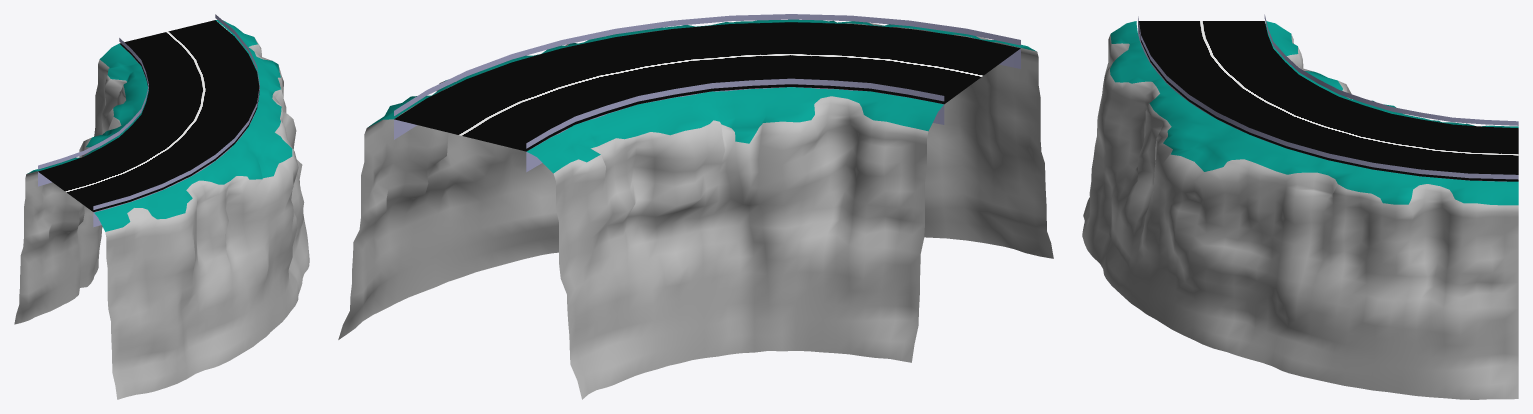
3 renders of one model, left to right at view 1: azimuth 30°, elevation 25°; view 2: azimuth 150°, elevation 25°; view 3: azimuth 270°, elevation 25°, orthographic. The views are drawn at different scales.
Parts seen in each view (by area): view 1: cliff_2, Mesh, cliff_1, guardRail_2, guardRail_1, pylon; view 2: cliff_1, cliff_2, Mesh, guardRail_2, guardRail_1, pylon; view 3: cliff_2, Mesh, guardRail_2, cliff_1, guardRail_1.
Part boxes in pixels (<box>): cliff_2: <box>94,20,309,399</box>; Mesh: <box>38,20,259,211</box>; cliff_1: <box>14,43,148,324</box>; guardRail_2: <box>93,14,259,209</box>; guardRail_1: <box>38,38,148,169</box>; pylon: <box>38,48,259,227</box>; cliff_1: <box>526,87,943,399</box>; cliff_2: <box>338,19,1053,339</box>; Mesh: <box>394,22,1020,151</box>; guardRail_2: <box>394,14,1020,115</box>; guardRail_1: <box>526,78,944,148</box>; pylon: <box>394,48,1020,172</box>; cliff_2: <box>1082,21,1518,399</box>; Mesh: <box>1138,21,1518,181</box>; guardRail_2: <box>1138,16,1518,179</box>; cliff_1: <box>1265,21,1518,127</box>; guardRail_1: <box>1264,14,1518,125</box>.
Size of the model in its own units: 34.32 by 17.56 by 34.37.
